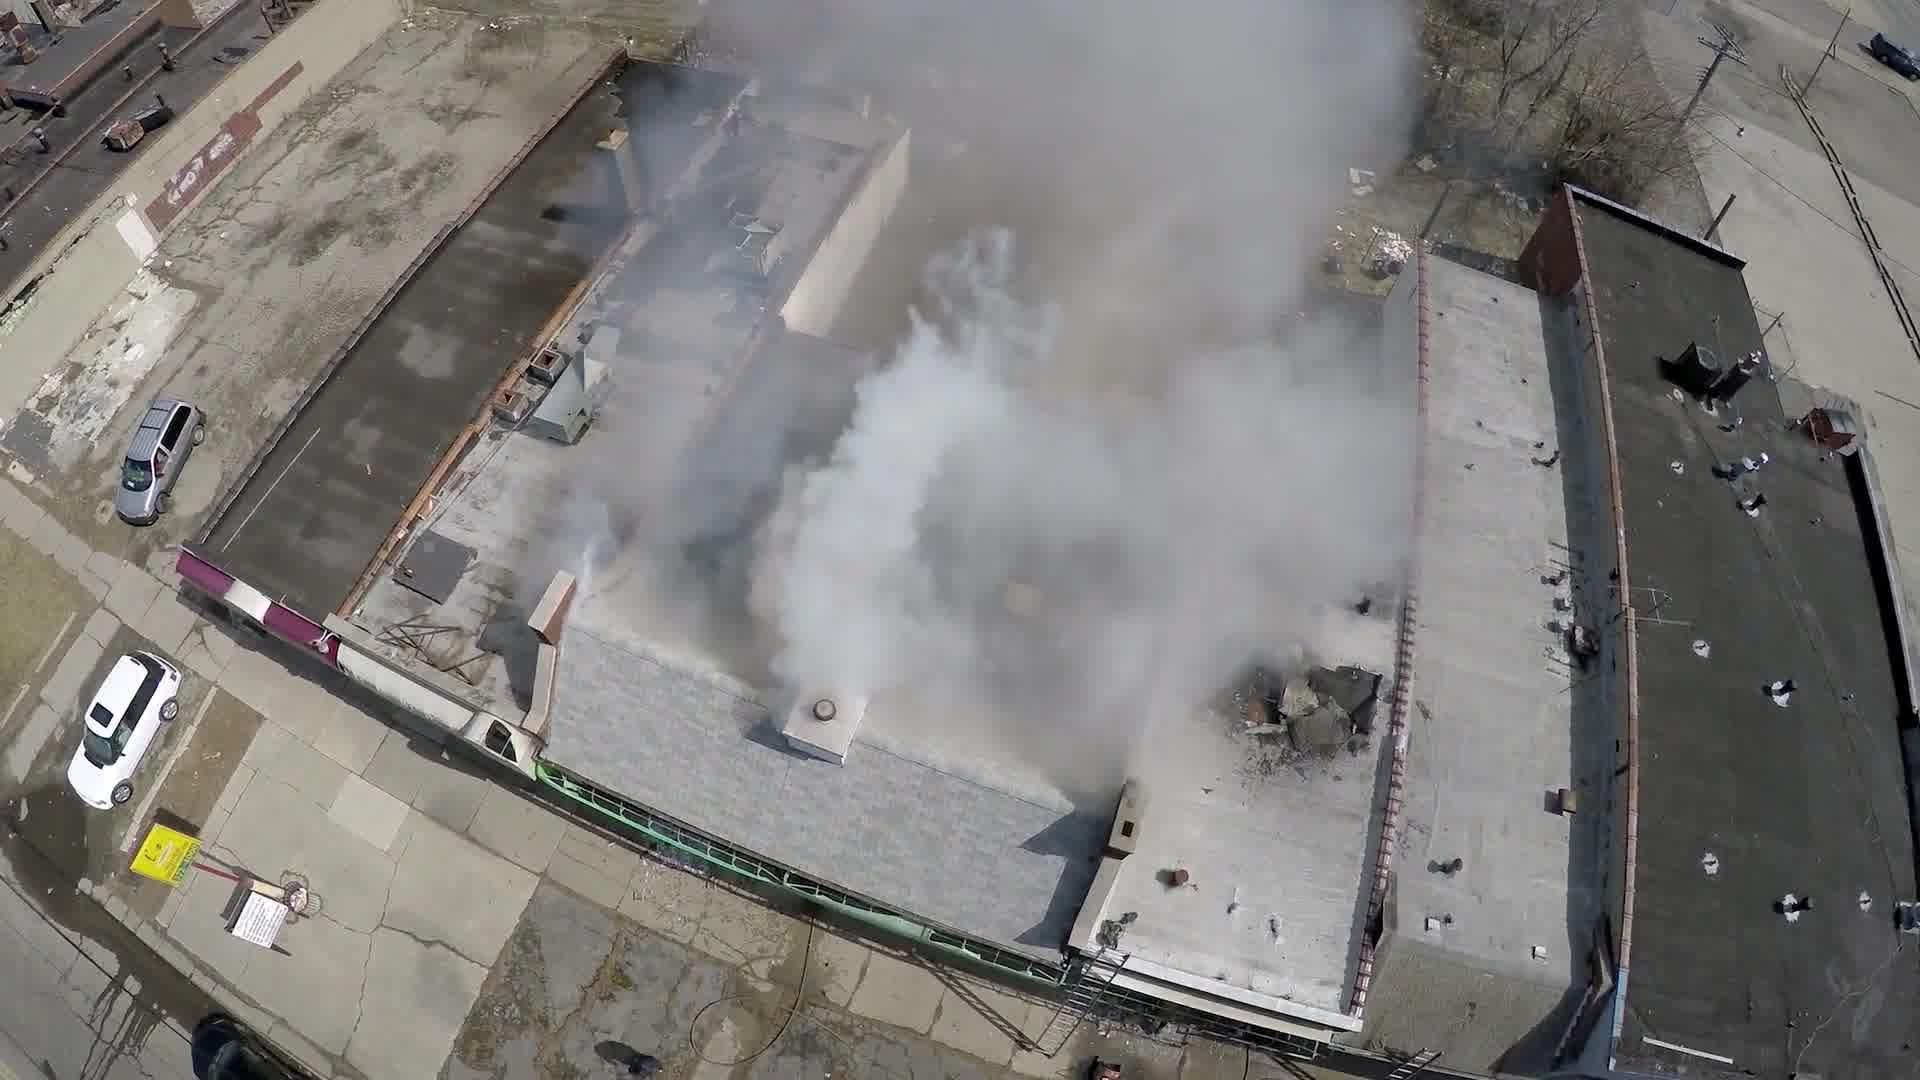smoke: (738, 342, 1308, 647), (971, 22, 1296, 344)
